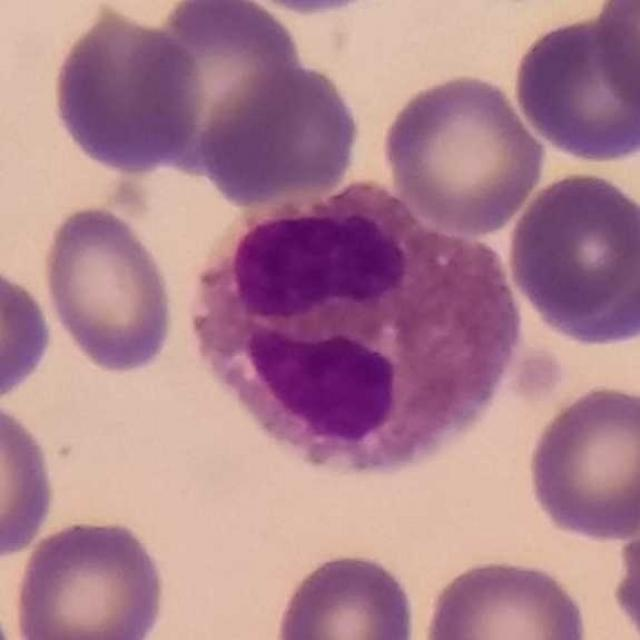Eosinophil: (192, 185, 524, 477)
Platelets: (510, 350, 564, 405)
RBC: (135, 0, 310, 180), (380, 69, 548, 237), (47, 3, 205, 177), (37, 200, 179, 378), (503, 166, 640, 349), (198, 60, 364, 209), (508, 9, 640, 166), (10, 513, 169, 640), (522, 380, 640, 546), (420, 553, 593, 640), (270, 548, 420, 640), (0, 395, 59, 563), (0, 259, 56, 406), (592, 0, 640, 116), (607, 493, 640, 640), (220, 0, 408, 18)
